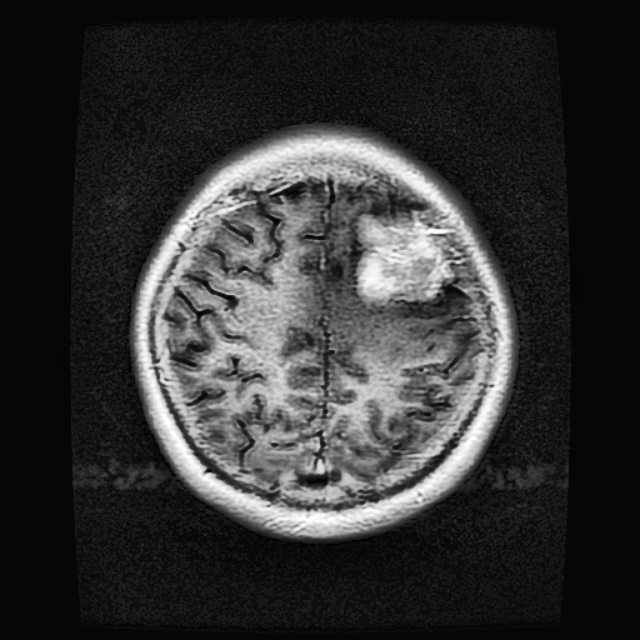Pituitary: (350, 210, 454, 303)
